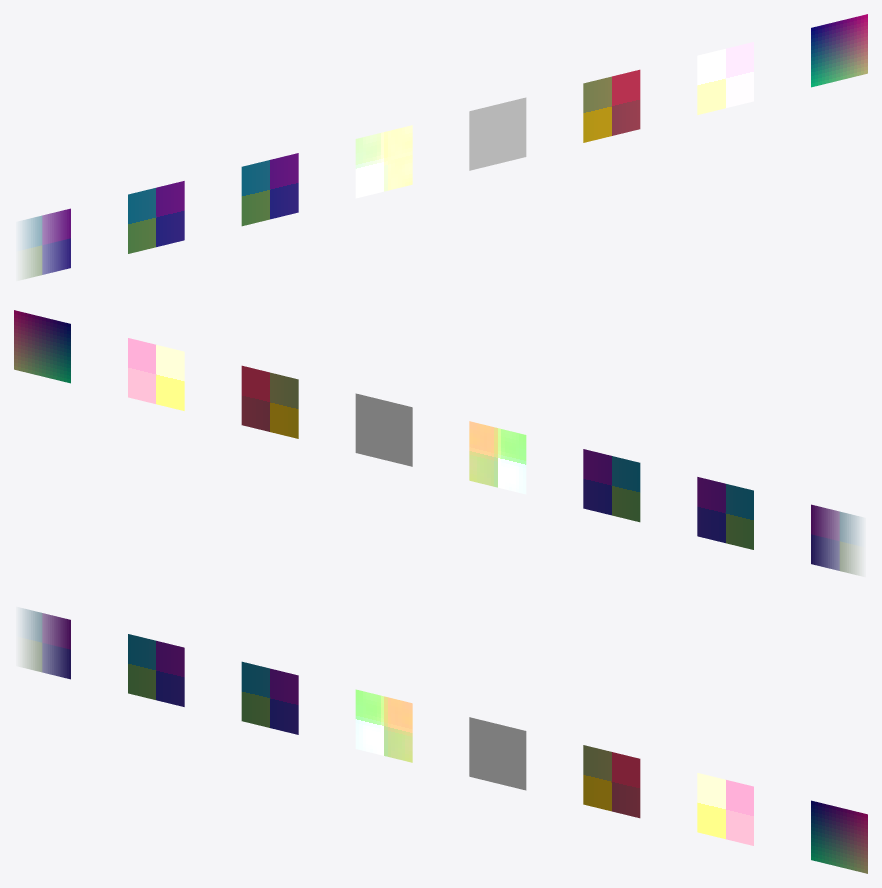
The model's file is textures.gltf.
3 views of the same model, one above another, from view 1: azimuth 30°, elevation 25°; view 2: azimuth 150°, elevation 25°; view 3: azimuth 330°, elevation 25° (orthographic).
Parts seen in each view (by area): view 1: Lit, Occluded, IgnoredAlpha, SharedBase, Deep, OpaqueAlpha, SharedEmissive, Alpha; view 2: Lit, Occluded, IgnoredAlpha, SharedBase, Deep, OpaqueAlpha, SharedEmissive, Alpha; view 3: Lit, Occluded, IgnoredAlpha, SharedBase, Deep, OpaqueAlpha, SharedEmissive, Alpha.
Boxes of the visible parts, x1,y1,x2,y2 form: Lit: [355, 125, 412, 198]; Occluded: [469, 97, 526, 170]; IgnoredAlpha: [241, 153, 298, 226]; SharedBase: [583, 69, 640, 142]; Deep: [811, 14, 867, 87]; OpaqueAlpha: [128, 181, 184, 253]; SharedEmissive: [697, 42, 753, 114]; Alpha: [23, 208, 70, 278]; Lit: [469, 421, 526, 494]; Occluded: [355, 393, 412, 466]; IgnoredAlpha: [583, 449, 640, 522]; SharedBase: [241, 365, 298, 438]; Deep: [14, 310, 70, 383]; OpaqueAlpha: [697, 477, 753, 549]; SharedEmissive: [128, 338, 184, 410]; Alpha: [811, 504, 858, 574]; Lit: [355, 689, 412, 762]; Occluded: [469, 717, 526, 790]; IgnoredAlpha: [241, 661, 298, 734]; SharedBase: [583, 745, 640, 818]; Deep: [811, 800, 867, 873]; OpaqueAlpha: [128, 634, 184, 706]; SharedEmissive: [697, 773, 753, 845]; Alpha: [23, 609, 70, 679].
Bounding box in the file's own units: 15 × 1 × 0.
8 materials, 5 textured.
